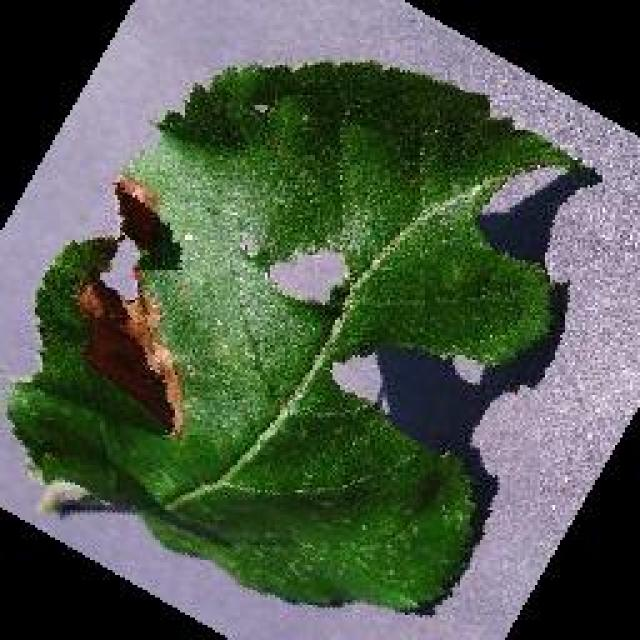Black_rot: (5, 55, 595, 613)
